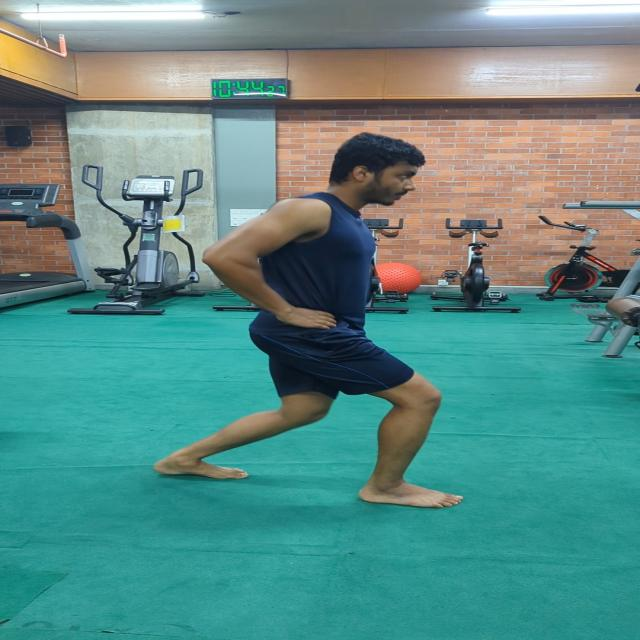Normal_Lunges: (146, 122, 478, 511)
